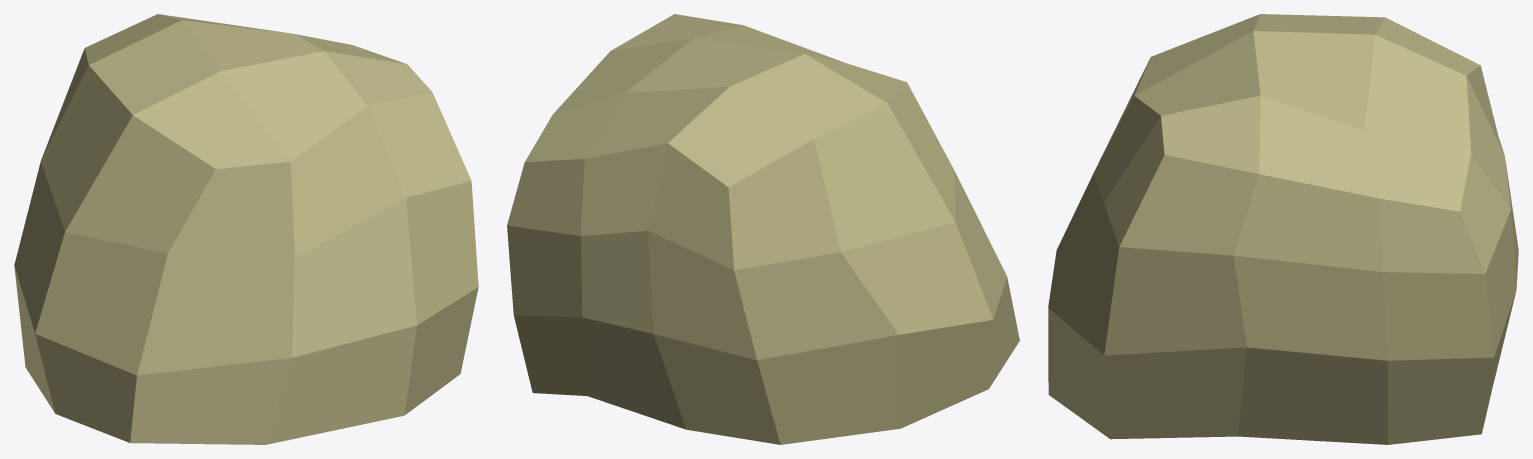
File: RockD.fbx
3 views of the same model, side by side, from view 1: azimuth 30°, elevation 25°; view 2: azimuth 150°, elevation 25°; view 3: azimuth 270°, elevation 25° (orthographic). The views are drawn at different scales.
Visible parts, largest first — view 1: RockD; view 2: RockD; view 3: RockD.
Part boxes in pixels (<box>): RockD: <box>14,14,478,444</box>; RockD: <box>507,14,1019,444</box>; RockD: <box>1048,14,1518,444</box>.
Size of the model in its own units: 137 by 103 by 131.
